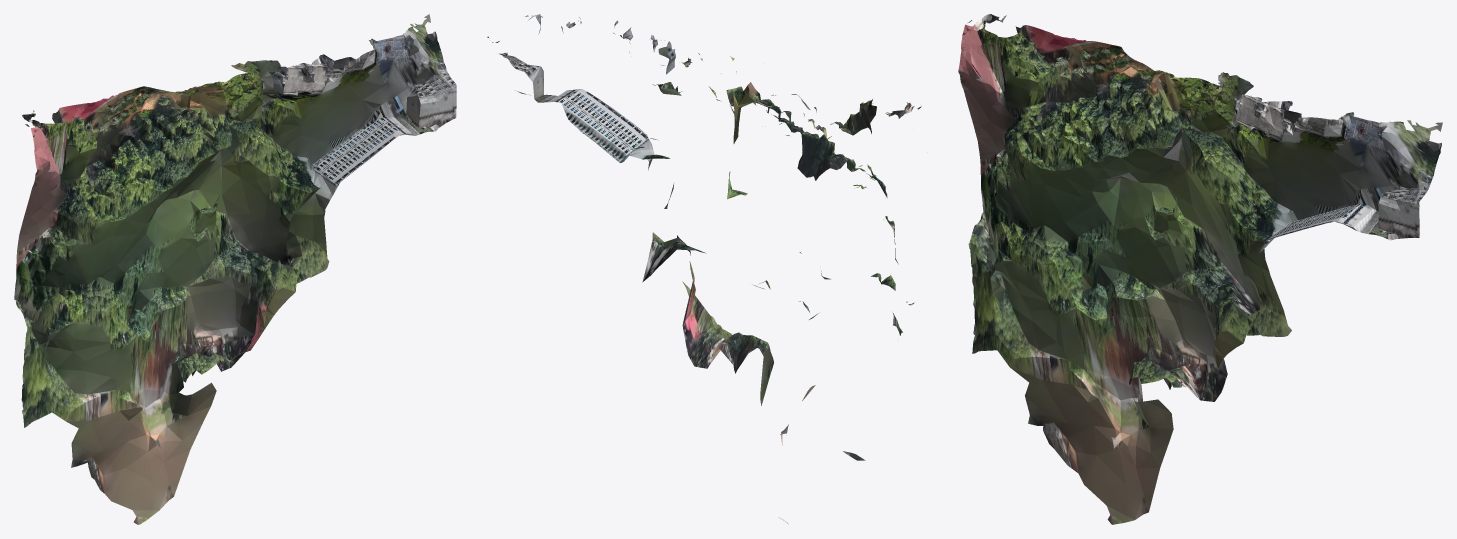
Rendered from Tile_+002_+000.glb.
3 views of the same model, side by side, from view 1: azimuth 30°, elevation 25°; view 2: azimuth 150°, elevation 25°; view 3: azimuth 330°, elevation 25° (orthographic). The views are drawn at different scales.
Visible parts, largest first — view 1: Node; view 2: Node; view 3: Node.
Part boxes in pixels (x1,y1,x2,y2): Node: (14,14,456,524); Node: (487,14,921,524); Node: (958,14,1442,524).
Bounding box in the file's own units: 200 × 199 × 32.02.
Materials: 1 (1 with a texture image).
